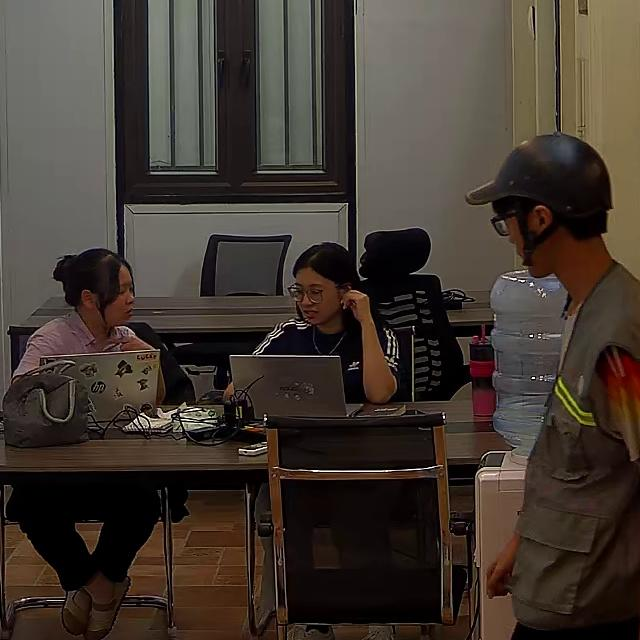helmet: (463, 133, 615, 218)
no_helmet: (289, 239, 377, 307), (52, 248, 130, 305)
none: (249, 315, 403, 405), (12, 312, 143, 385)
vest: (513, 270, 639, 632)
